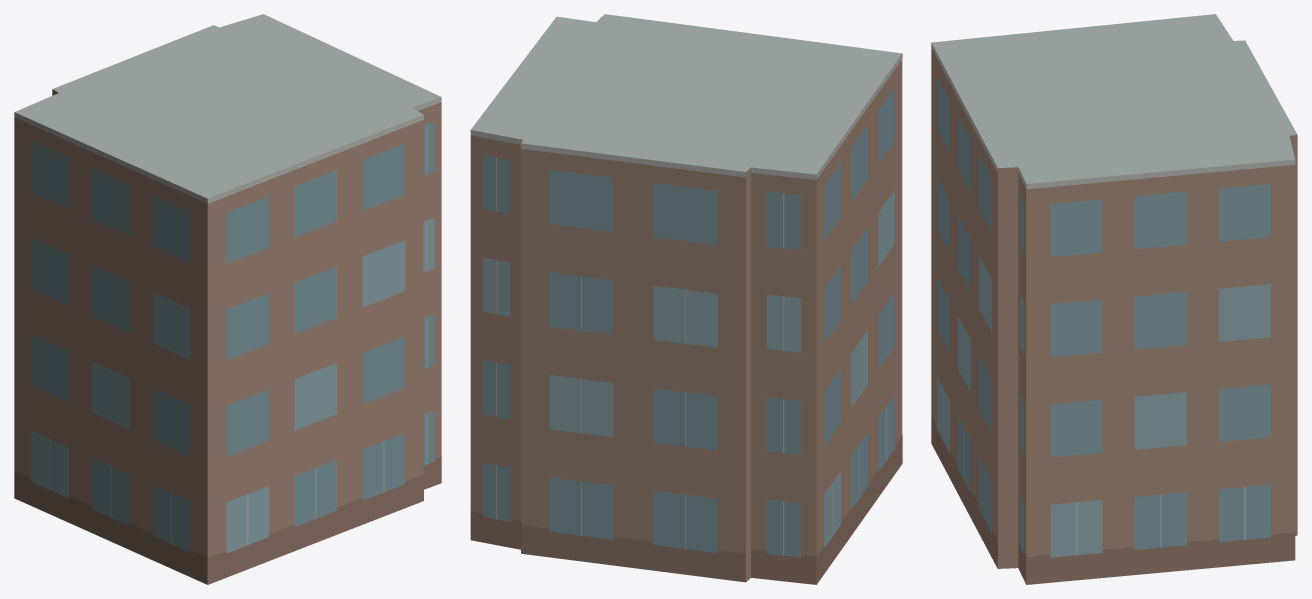
Rendered from survey-upis-32926436.glb.
The picture shows the model from 3 angles, left to right: view 1: azimuth 30°, elevation 25°; view 2: azimuth 150°, elevation 25°; view 3: azimuth 270°, elevation 25°; orthographic projection. The views are drawn at different scales.
Parts seen in each view (by area): view 1: survey-upis-32926436.tmp; view 2: survey-upis-32926436.tmp; view 3: survey-upis-32926436.tmp.
Part boxes in pixels (x1=…): survey-upis-32926436.tmp: x1=14, y1=14, x2=441, y2=584; survey-upis-32926436.tmp: x1=470, y1=14, x2=902, y2=584; survey-upis-32926436.tmp: x1=931, y1=14, x2=1297, y2=584.
Bounding box in the file's own units: 16.94 × 18.6 × 15.42.
